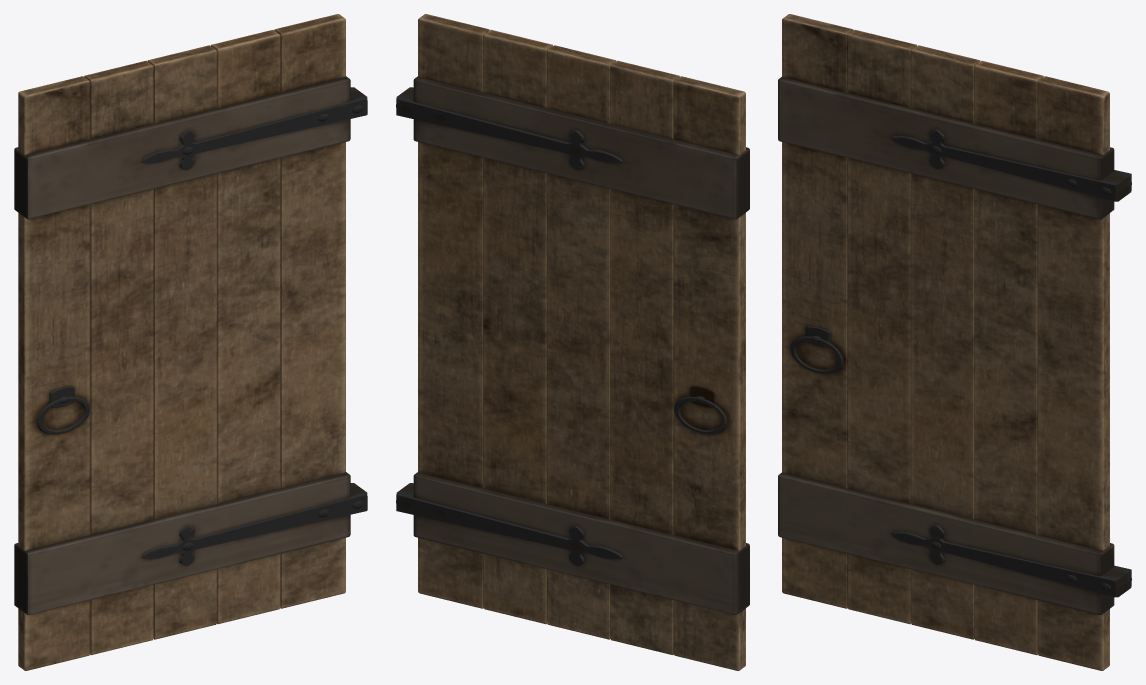
File: BW_Bakery01_CustomerDoor.fbx
3 views of the same model, side by side, from view 1: azimuth 30°, elevation 25°; view 2: azimuth 150°, elevation 25°; view 3: azimuth 330°, elevation 25° (orthographic).
Visible parts, largest first — view 1: BW_Bakery01_CustomerDoor; view 2: BW_Bakery01_CustomerDoor; view 3: BW_Bakery01_CustomerDoor.
Boxes of the visible parts, <box> form: BW_Bakery01_CustomerDoor: <box>14,14,367,670</box>; BW_Bakery01_CustomerDoor: <box>396,14,749,670</box>; BW_Bakery01_CustomerDoor: <box>778,14,1131,670</box>.
Size of the model in its own units: 1.47 by 2.37 by 0.1318.
